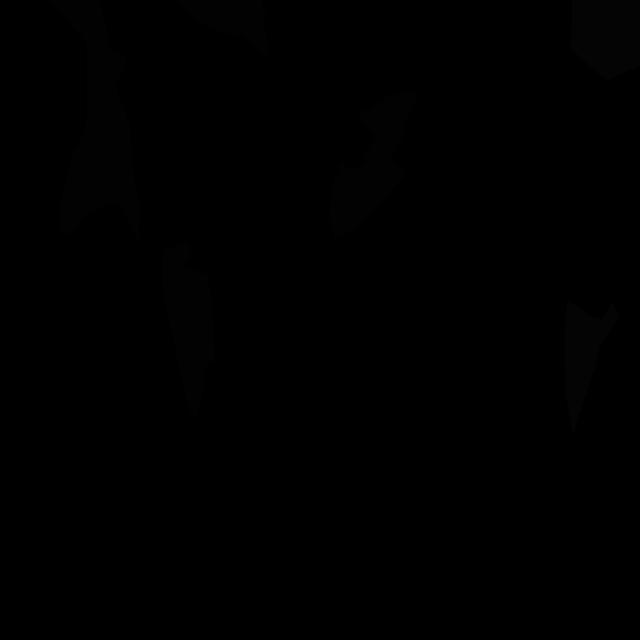cardboard: (47, 0, 140, 242), (328, 92, 420, 240), (162, 241, 215, 416), (178, 0, 268, 57)
soft_plastic: (564, 301, 620, 436), (570, 0, 640, 80)
